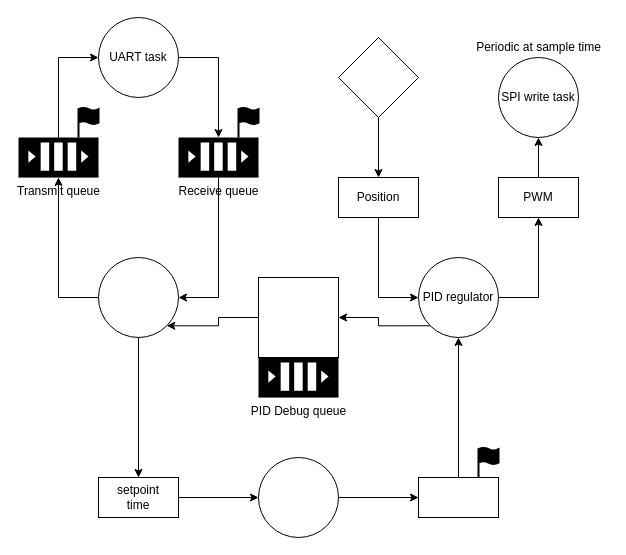
This 626x555 diagram has some shape labels left out. The centre of each missing label's shape, as x and y in pixels:
"setpoint pos" goes at [458,497].
"setpoint pos raw_pos pwm raw_pwm" goes at [298,317].
"SPI read ISR" goes at [378,77].
"User Interface" goes at [138,297].
"Velocity control" goes at [298,497].
